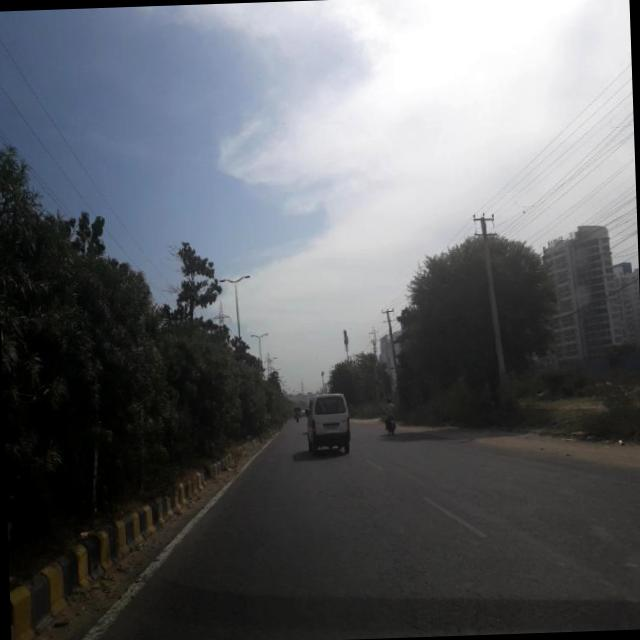crack: (133, 451, 640, 640)
